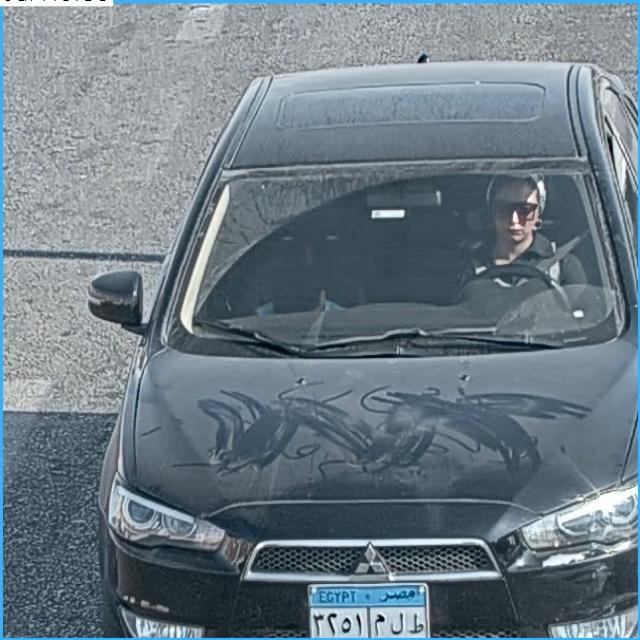windshield: (186, 165, 612, 339)
